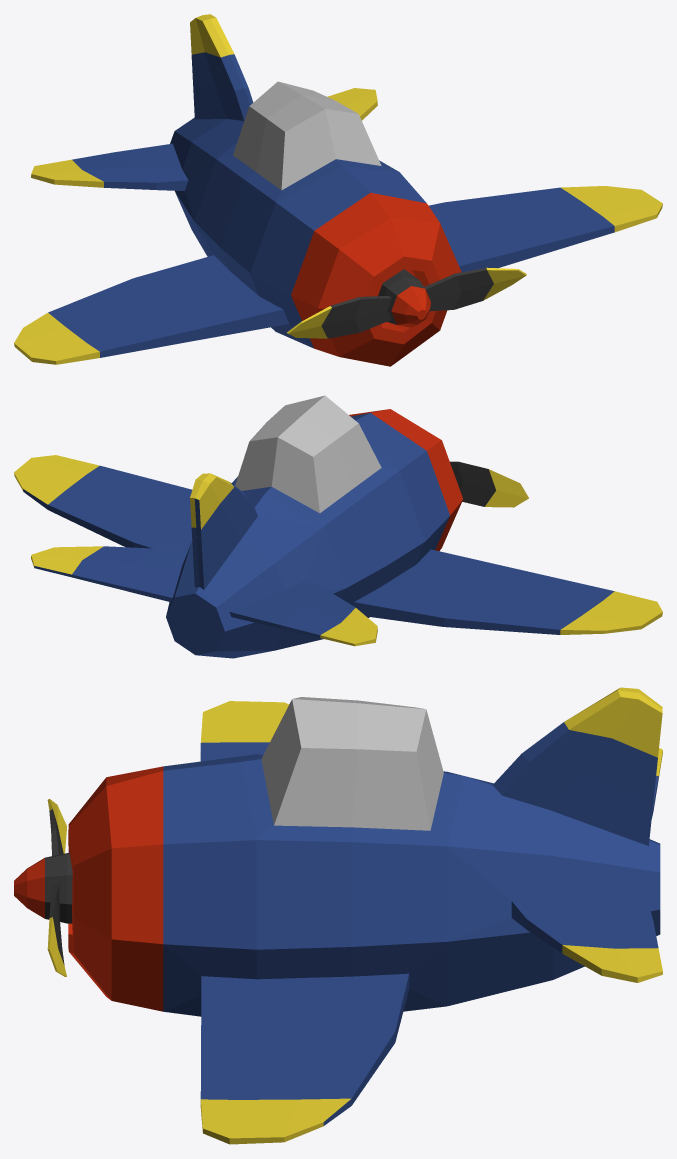
The model's file is Aereo.fbx.
The picture shows the model from 3 angles, top to bottom: view 1: azimuth 30°, elevation 25°; view 2: azimuth 150°, elevation 25°; view 3: azimuth 270°, elevation 25°; orthographic projection. The views are drawn at different scales.
Parts seen in each view (by area): view 1: Cylinder, Cylinder.001; view 2: Cylinder, Cylinder.001; view 3: Cylinder, Cylinder.001.
Part boxes in pixels (x1,y1,x2,y2): Cylinder: (14,14,662,366); Cylinder.001: (286,267,526,338); Cylinder: (14,395,662,658); Cylinder.001: (450,461,528,507); Cylinder: (68,687,662,1144); Cylinder.001: (14,799,72,976).
Bounding box in the file's own units: 693 × 243 × 435.
